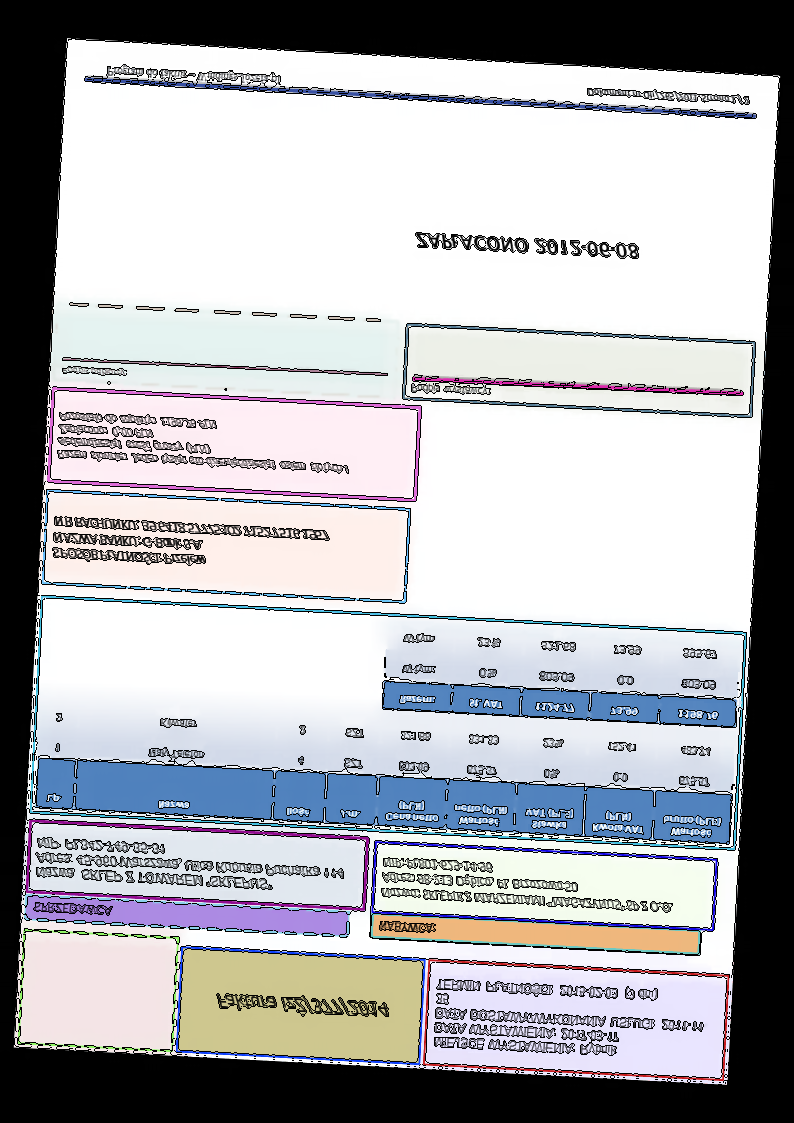Table: (33, 694, 737, 847), (379, 617, 743, 730)
TextBox: (431, 973, 713, 1066), (55, 409, 356, 478), (32, 832, 347, 897), (378, 853, 677, 917), (49, 511, 331, 577), (413, 229, 640, 264), (211, 988, 393, 1022), (104, 62, 281, 91), (584, 84, 752, 110), (29, 900, 117, 920), (407, 380, 493, 400), (59, 362, 129, 383), (376, 917, 437, 939)
